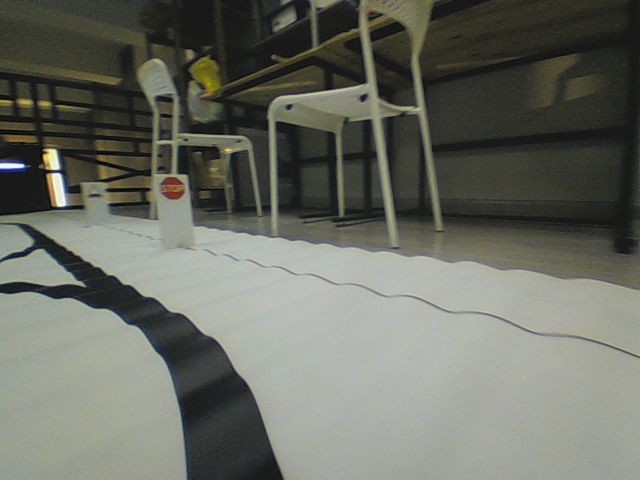Stop: (159, 176, 185, 200)
